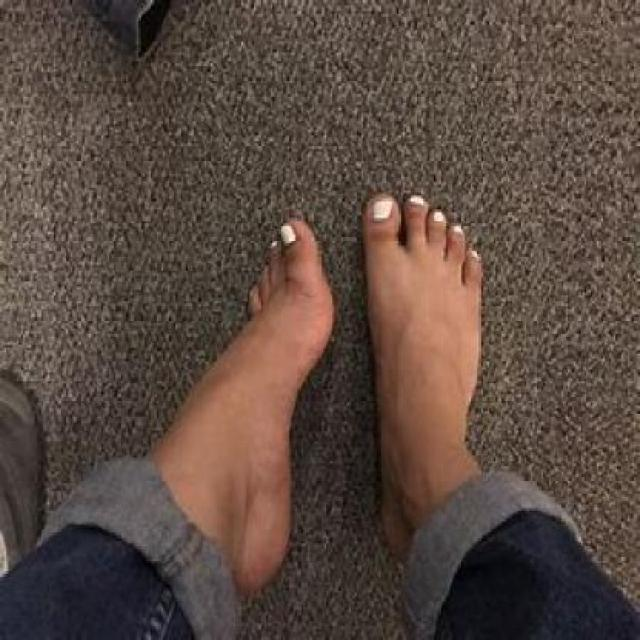Barefoots: (361, 179, 510, 462)
